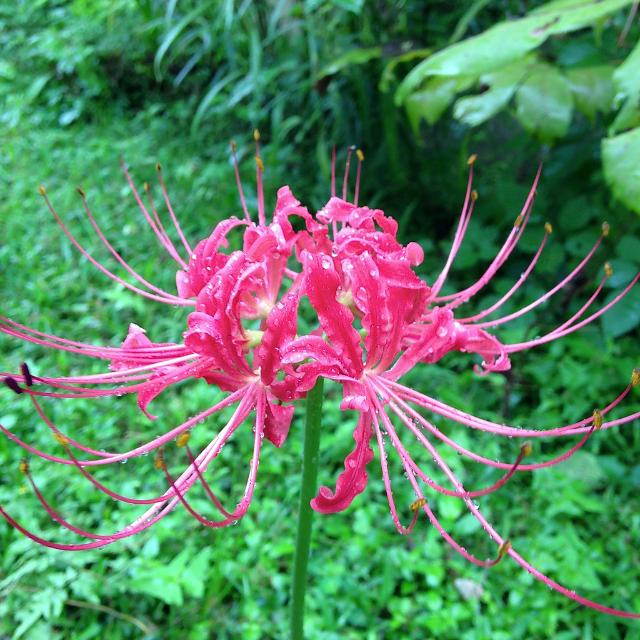Flower: (138, 164, 472, 524)
